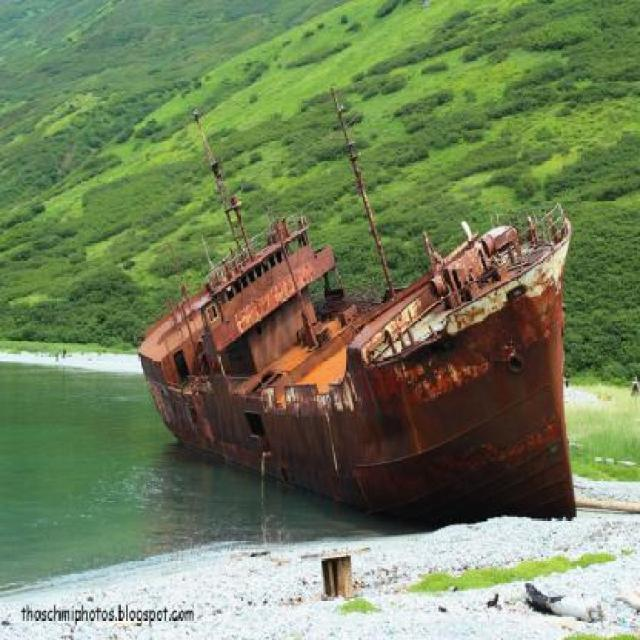corrosion: (138, 209, 577, 525)
